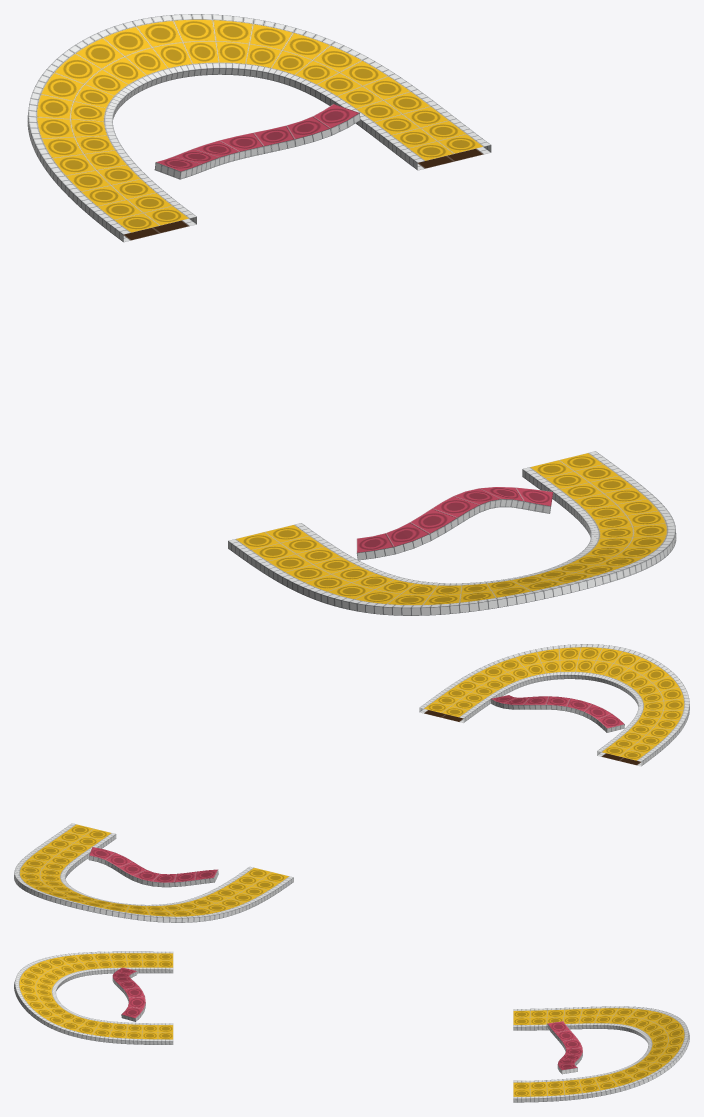
The model's file is MinorAscent_BMCurves.obj.
The picture shows the model from 3 angles, top to bottom: view 1: azimuth 30°, elevation 25°; view 2: azimuth 150°, elevation 25°; view 3: azimuth 270°, elevation 25°; orthographic projection. The views are drawn at different scales.
Visible parts, largest first — view 1: Cube, Cube.001_Cube.006, Cube.003_Cube.004, Cube.002_Cube.003; view 2: Cube.001_Cube.006, Cube, Cube.002_Cube.003, Cube.003_Cube.004; view 3: Cube, Cube.001_Cube.006, Cube.003_Cube.004, Cube.002_Cube.003.
Boxes of the visible parts, bbox=[...] form: Cube: bbox=[27, 14, 491, 242]; Cube.001_Cube.006: bbox=[228, 451, 676, 615]; Cube.003_Cube.004: bbox=[356, 487, 553, 560]; Cube.002_Cube.003: bbox=[154, 104, 360, 179]; Cube.001_Cube.006: bbox=[419, 644, 689, 766]; Cube: bbox=[14, 823, 293, 922]; Cube.002_Cube.003: bbox=[88, 847, 218, 887]; Cube.003_Cube.004: bbox=[490, 695, 624, 732]; Cube: bbox=[513, 1006, 689, 1102]; Cube.001_Cube.006: bbox=[14, 951, 173, 1044]; Cube.003_Cube.004: bbox=[112, 967, 145, 1021]; Cube.002_Cube.003: bbox=[547, 1021, 582, 1074].
Bounding box in the file's own units: 41 × 3.11 × 79.59.
